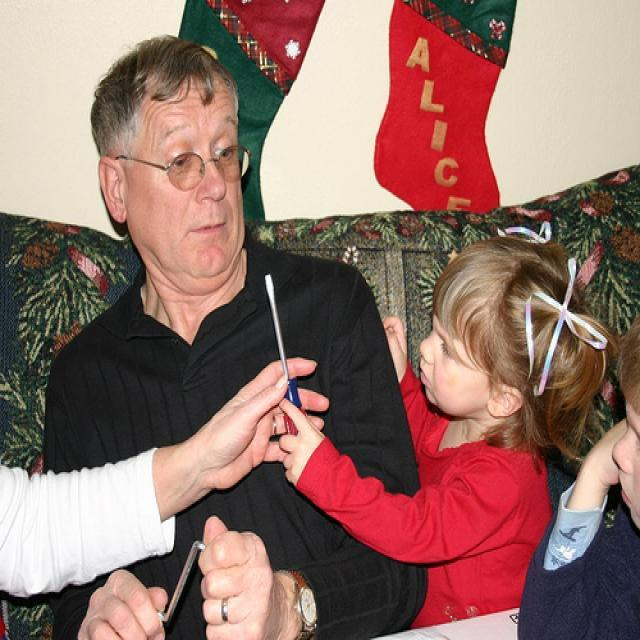screwdriver: (262, 268, 308, 438)
